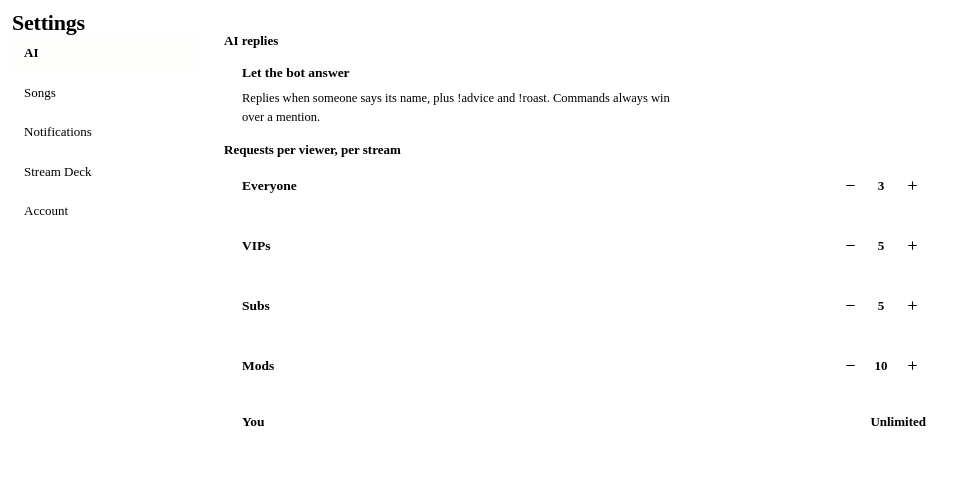
Test case: Settings, the Songs pane › disables both toggles and the field when Spotify is not linked
Click the button "Songs".
click(105, 92)  # box [12,74,198,111]
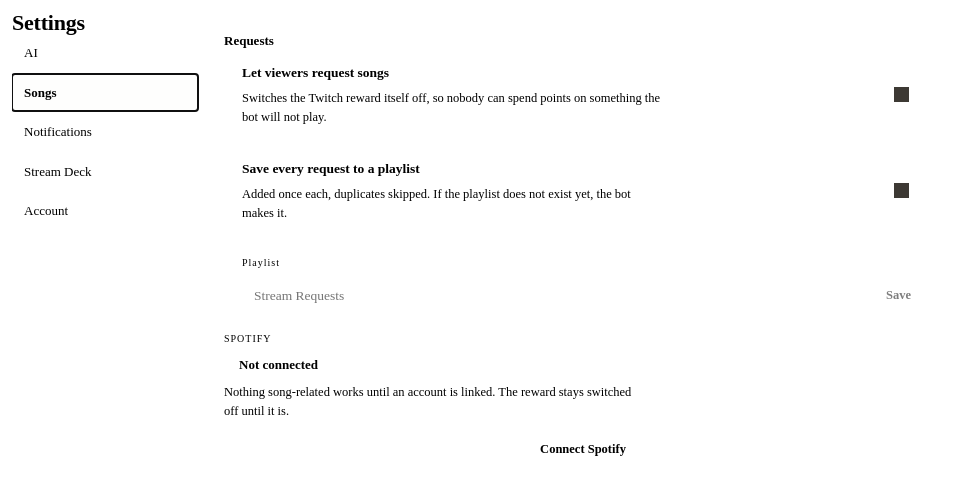
Expected: the switch named "Let viewers request songs" is disabled, [892,85,926,104]
Expected: the switch named "Save every request to a playlist" is disabled, [892,181,926,200]
Expected: the field with placeholder "Stream Requests" is disabled, [242,276,853,315]
